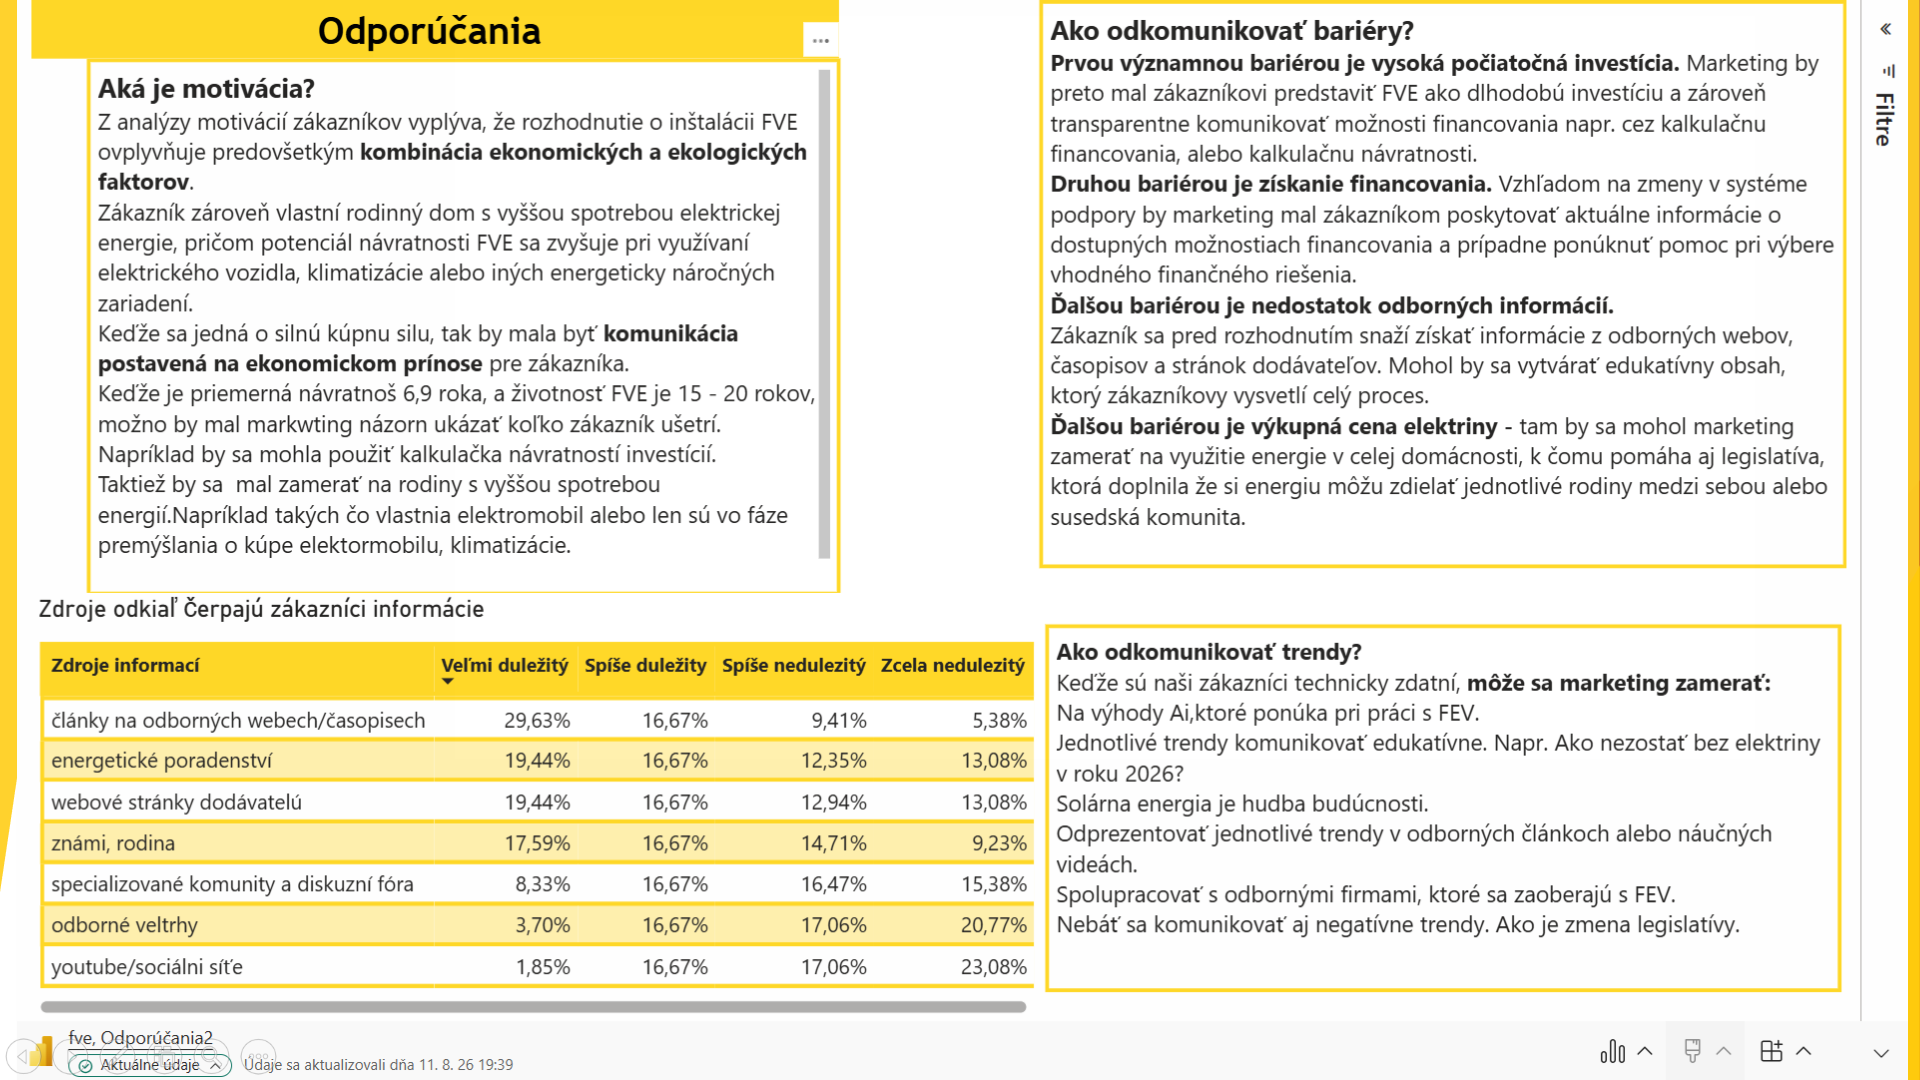

Layout of this report page (visuals, bound fields, positions):
{"tool":"powerbi","page":{"name":"Odporúčania2","canvas":[1280,720],"ordinal":7},"visuals":[{"type":"textbox","box":[0,0,569.5,41.2],"z":0},{"type":"textbox","box":[38.6,41.4,531.4,378.6],"z":1000},{"type":"textbox","box":[710,0,569.5,400.7],"z":2000},{"type":"tableEx","title":"Zdroje odkiaľ čerpajú zákazníci informácie","fields":{"Values":["Zdroje informací.Zdroje informací","Sum(Zdroje informací.Veľmi duležitý)","Sum(Zdroje informací.Spíše duležity)","Sum(Zdroje informací.Spíše nedulezitý)","Sum(Zdroje informací.Zcela nedulezitý)"]},"box":[0,418.6,711.4,301.4],"z":3000},{"type":"textbox","box":[714.3,440,561.2,259.3],"z":4000}]}

Visuals, with their boxes on the page's 1280x720 design canvas (x1, y1, x2, y2). These are canvas units, not pixel positions in the 1920x1080 screenshot, which may show the page scaled, cropped or inside an application window:
textbox: bbox(0, 0, 570, 41)
textbox: bbox(39, 41, 570, 420)
textbox: bbox(710, 0, 1280, 401)
"Zdroje odkiaľ čerpajú zákazníci informácie" tableEx: bbox(0, 419, 711, 720)
textbox: bbox(714, 440, 1276, 699)
